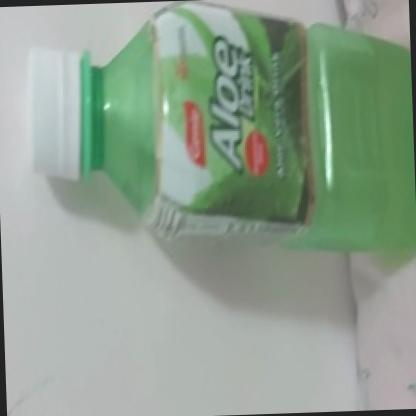plastic_bottles: (23, 0, 416, 270)
